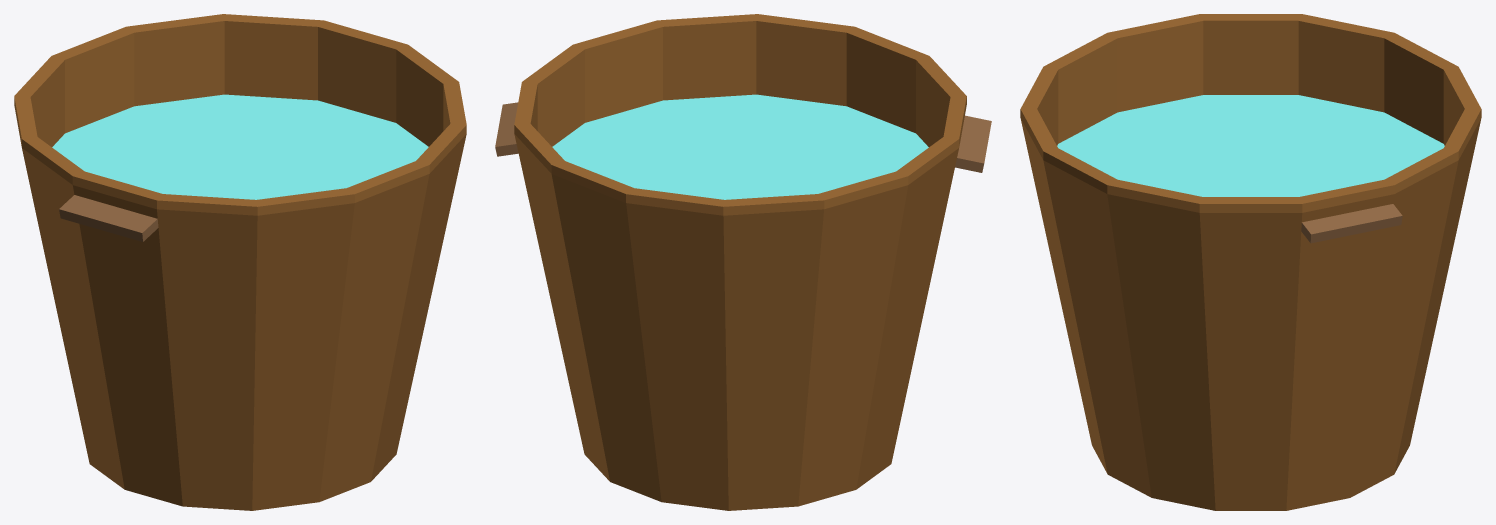
File: Ember.fbx
3 views of the same model, side by side, from view 1: azimuth 30°, elevation 25°; view 2: azimuth 150°, elevation 25°; view 3: azimuth 270°, elevation 25° (orthographic).
Visible parts, largest first — view 1: Ember; view 2: Ember; view 3: Ember.
Boxes of the visible parts, bbox=[...] form: Ember: bbox=[14, 14, 466, 510]; Ember: bbox=[495, 14, 991, 510]; Ember: bbox=[1020, 14, 1481, 510].
Bounding box in the file's own units: 83.36 × 63.26 × 78.55.
